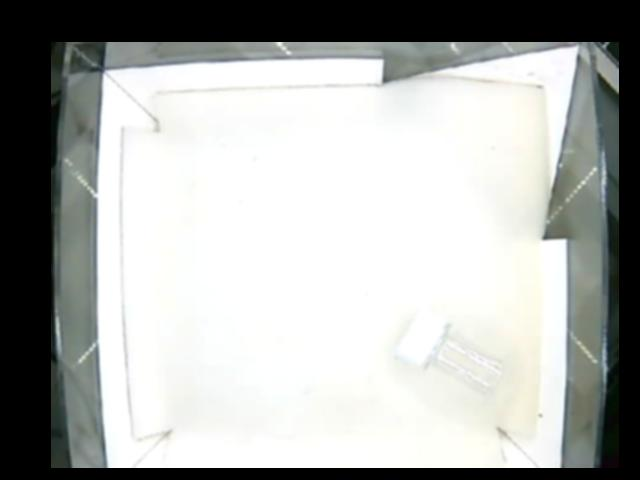Bottle: (396, 309, 503, 402)
